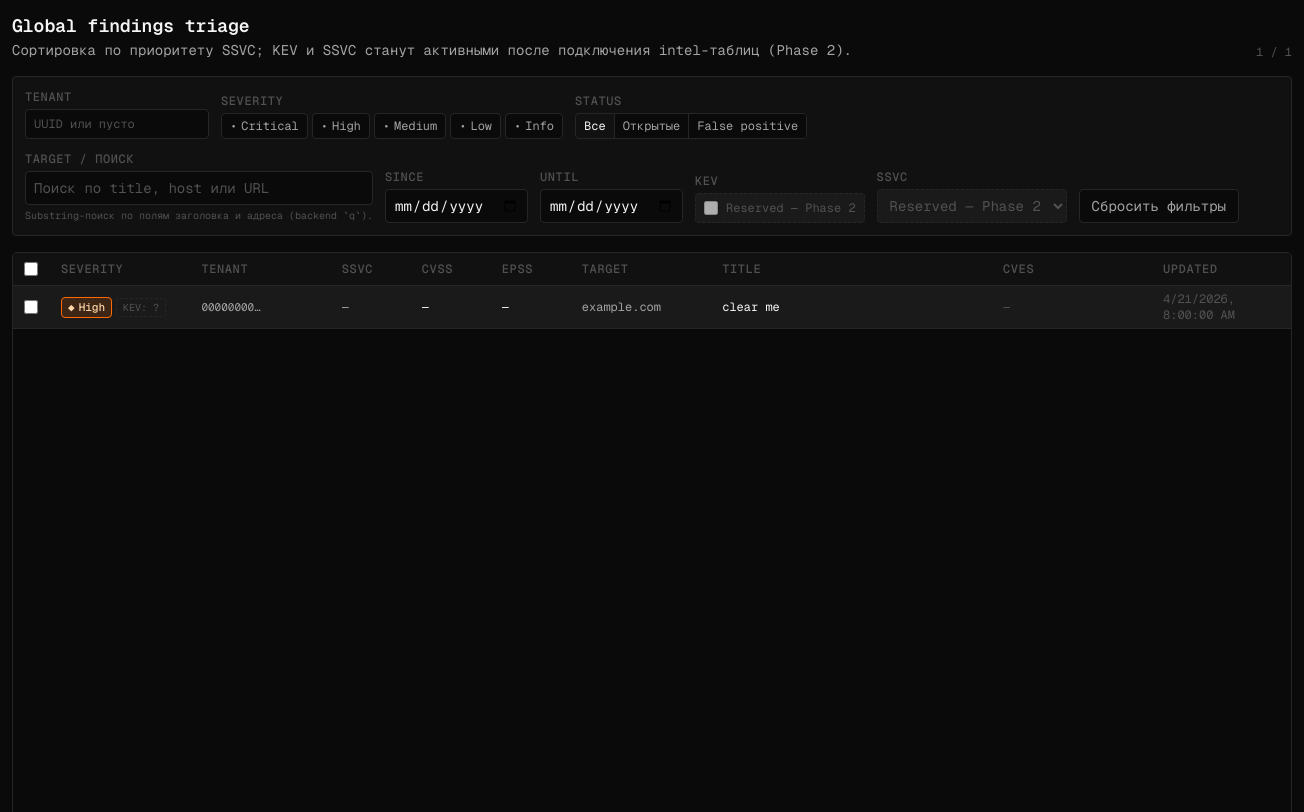
Test: AdminFindingsClient — bulk actions (T21) › 'Снять выбор' clears the selection and hides the toolbar
The image size is (1304, 812).
expect the text "clear me" is shown: met, box [722, 299, 780, 315]
Step 1. Click the checkbox in the row of "KEV: ?" → [31, 307], box [24, 300, 38, 314]
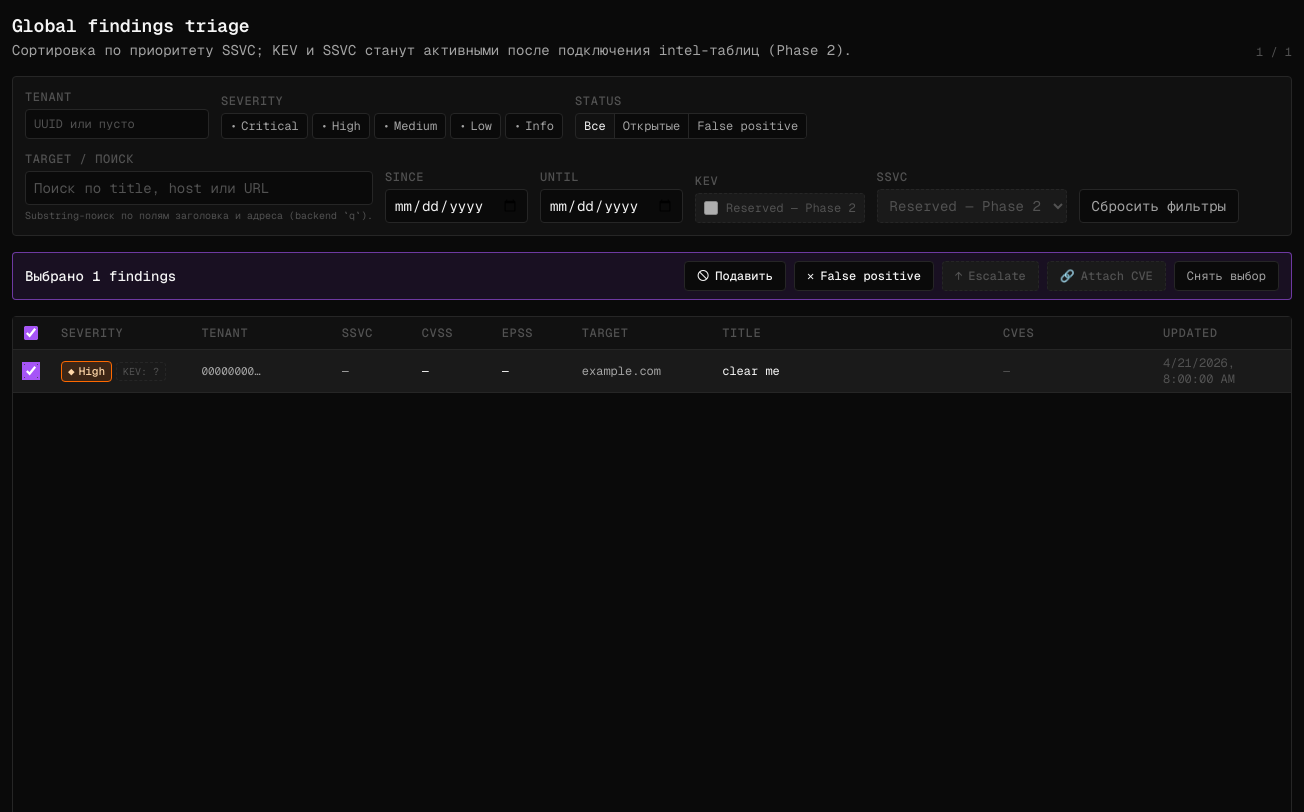
expect the element with test id "bulk-actions-toolbar" is shown: met, box [12, 252, 1292, 300]
Step 2. Click the button with test id "bulk-action-clear" → [1226, 276], box [1174, 261, 1279, 291]
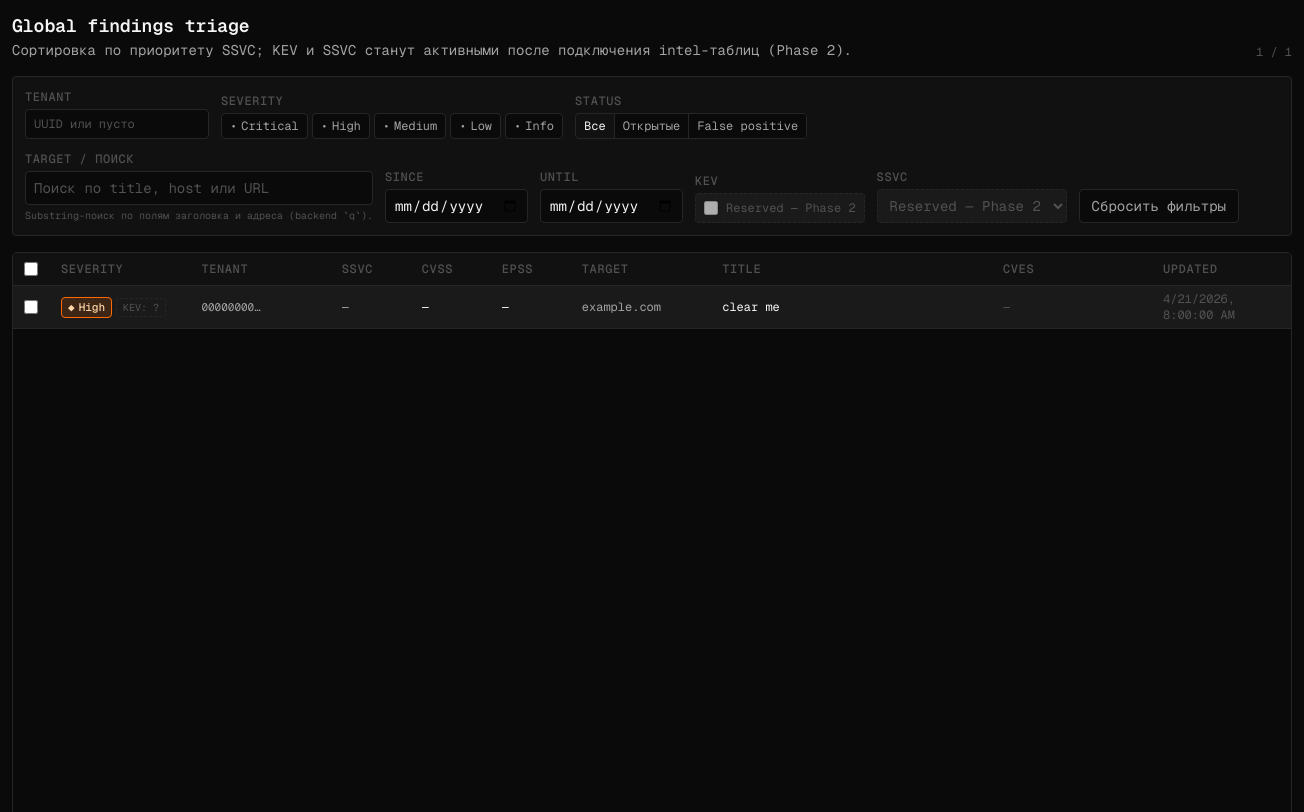
expect the element with test id "bulk-actions-toolbar" is gone: met
